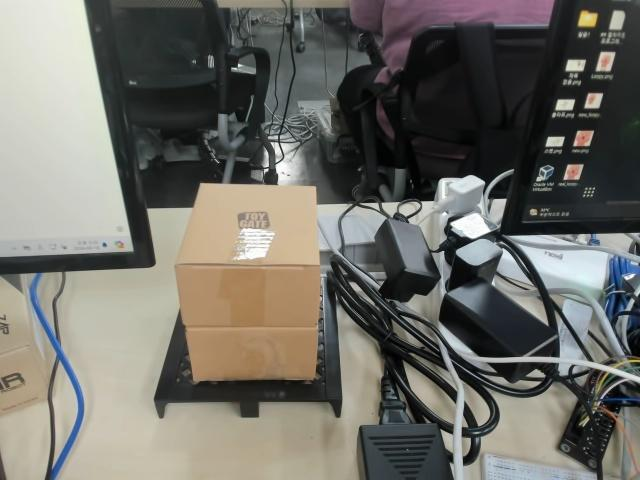box: (153, 183, 345, 419)
